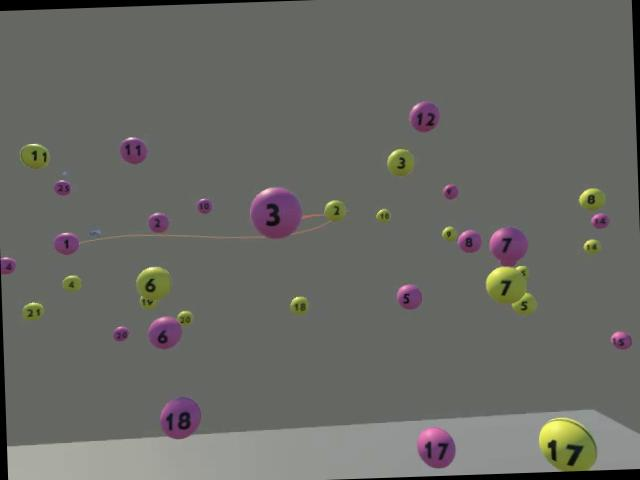ball_01_pink: (52, 232, 80, 256)
ball_02_pink: (147, 213, 170, 234)
ball_02_yellow: (322, 199, 348, 224)
ball_03_pink: (248, 185, 303, 240)
ball_03_yellow: (386, 148, 416, 178)
ball_04_pink: (0, 256, 16, 274)
ball_04_yellow: (61, 274, 82, 292)
ball_05_pink: (396, 284, 422, 310)
ball_05_yellow: (510, 292, 537, 316)
ball_06_pink: (147, 316, 182, 350)
ball_06_yellow: (135, 266, 172, 301)
ball_07_pink: (489, 226, 528, 262)
ball_07_yellow: (484, 265, 526, 304)
ball_08_yellow: (577, 186, 605, 210)
ball_09_pink: (456, 230, 482, 254), (442, 183, 458, 200)
ball_09_yellow: (440, 225, 458, 241)
ball_10_pink: (195, 198, 212, 214)
ball_10_yellow: (374, 208, 392, 222)
ball_11_pink: (120, 136, 148, 164)
ball_11_yellow: (18, 142, 51, 170)
ball_12_pink: (408, 102, 441, 132)
ball_14_pink: (590, 212, 609, 228)
ball_14_yellow: (582, 238, 601, 254)
ball_15_pink: (610, 330, 632, 349)
ball_17_pink: (416, 426, 456, 468)
ball_17_yellow: (538, 416, 598, 472)
ball_18_pink: (158, 397, 202, 440)
ball_18_yellow: (289, 296, 309, 317)
ball_19_yellow: (139, 294, 157, 310)
ball_20_pink: (112, 326, 129, 343)
ball_20_yellow: (176, 310, 193, 326)
ball_21_yellow: (21, 302, 45, 322)
ball_25_pink: (53, 180, 72, 196)
ball_unknown: (514, 265, 528, 279), (499, 259, 518, 265)
